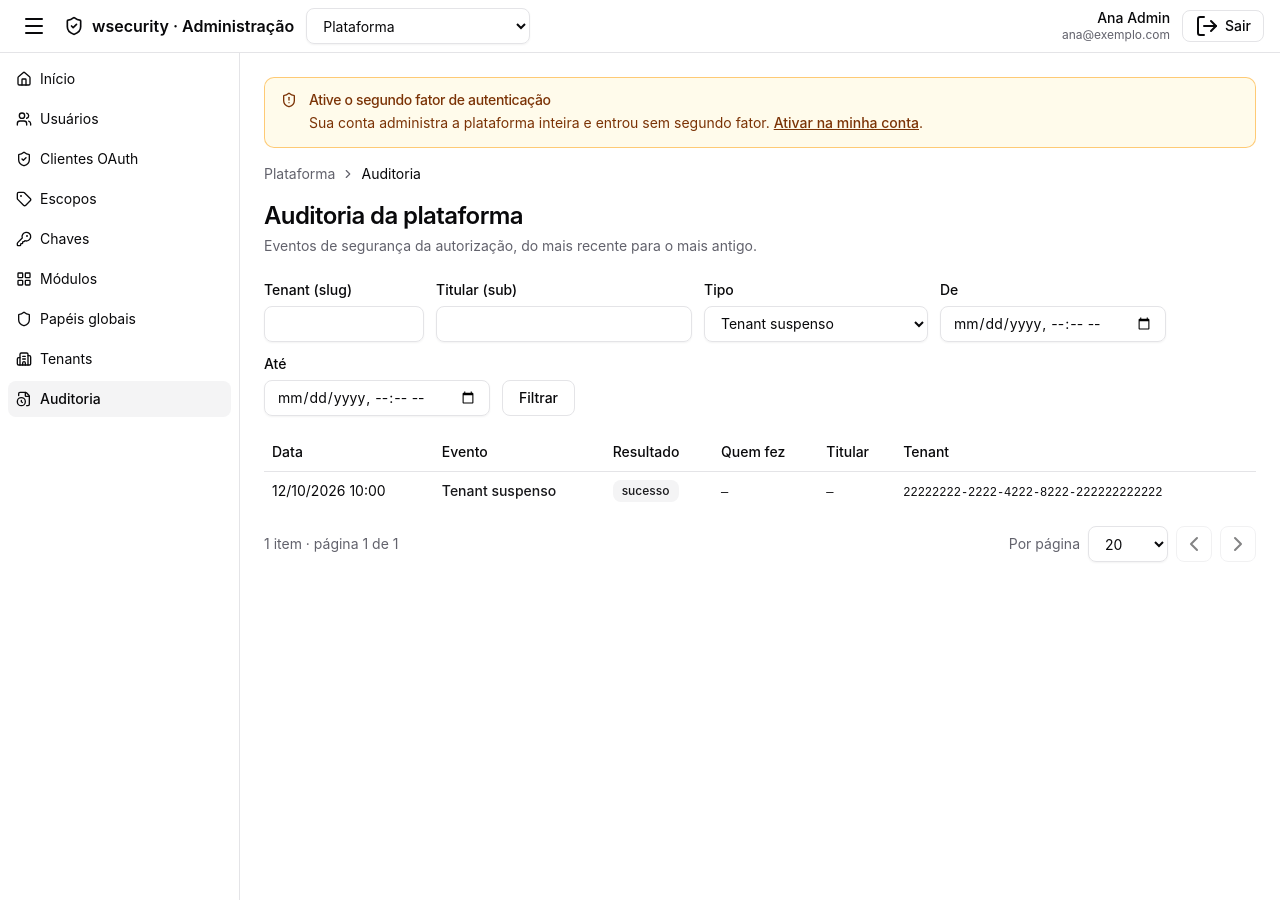
auditoria da plataforma › leva os filtros para a URL e converte o slug no tenantId
This screenshot has width=1280, height=900.
Expected: the button "Tenant suspenso" is shown, [442,481,556,501]
Type "globex" into the field labelled "Tenant (slug)". click: (344, 324)
box: [264,306,424,342]
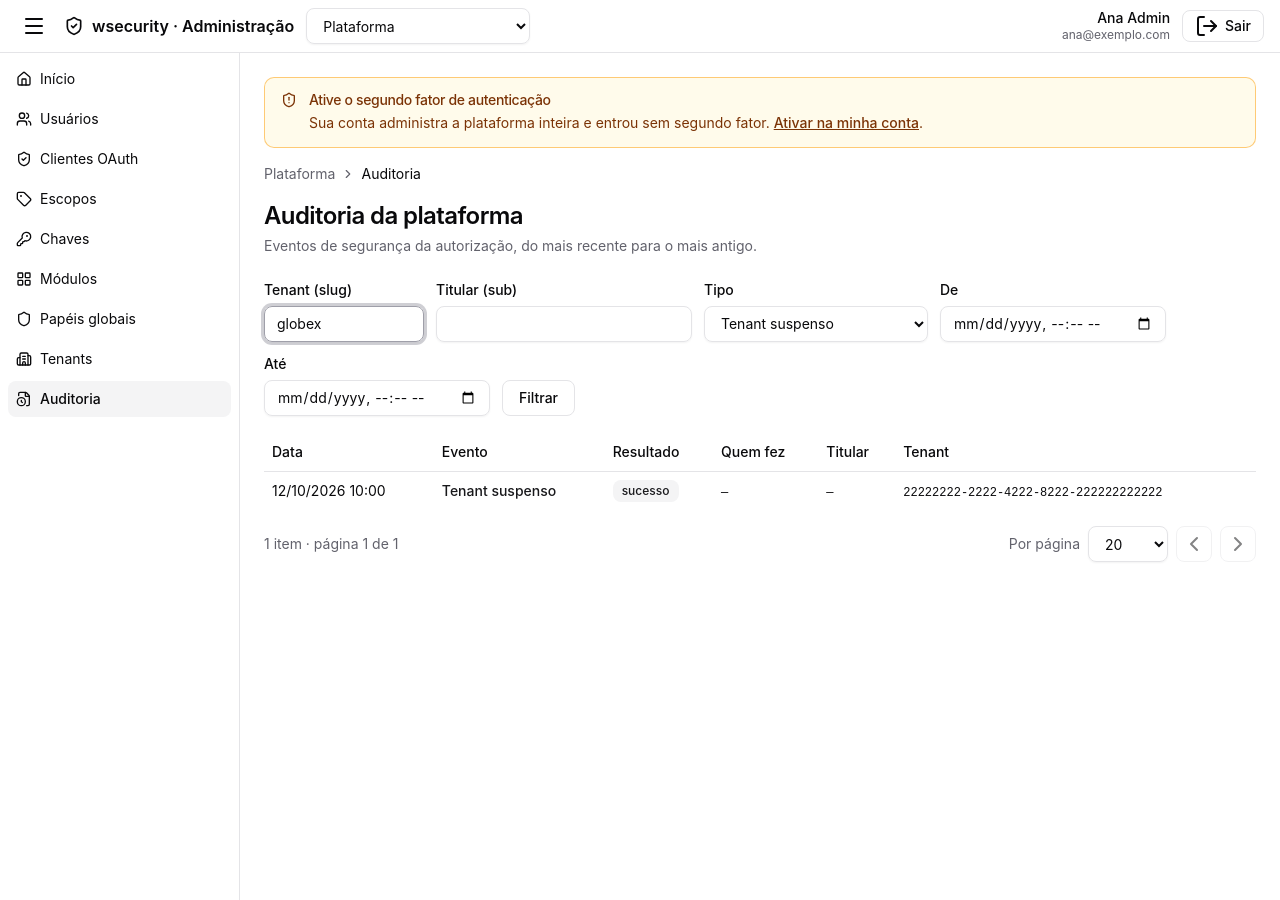
Click the button "Filtrar". click: click(538, 398)
box: [502,380,575,416]
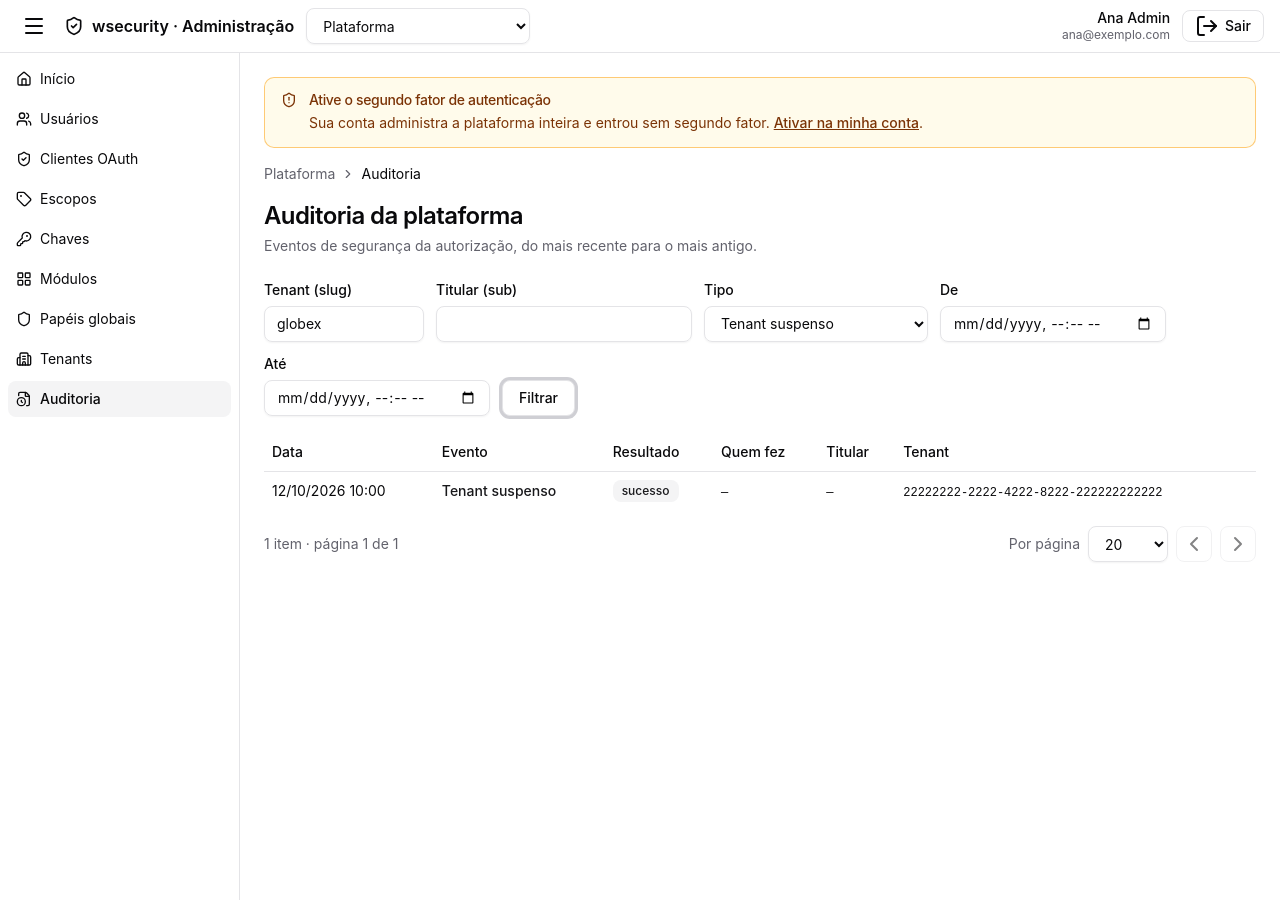
Click the button "Tenant suspenso". click: click(499, 491)
box: [442,481,556,501]
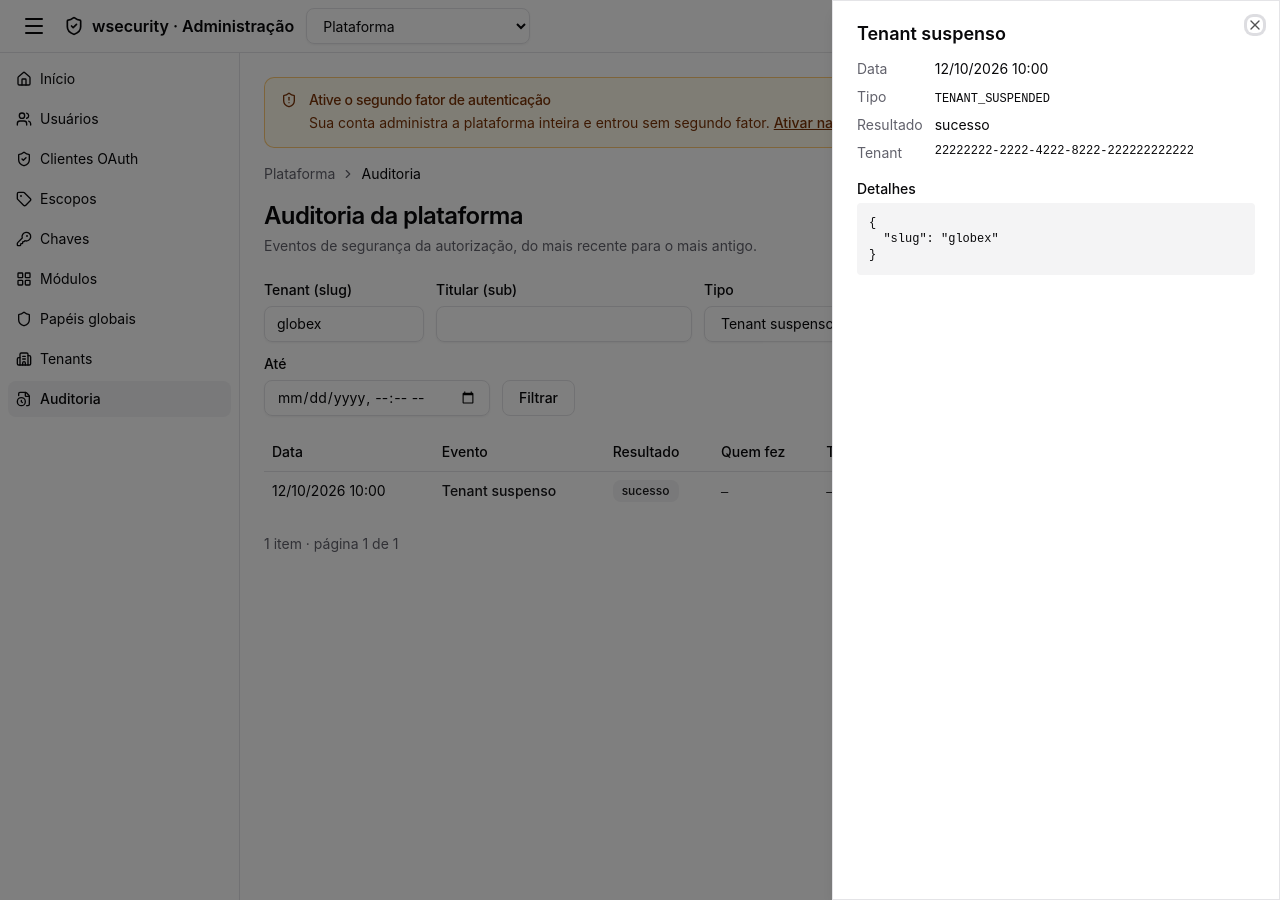
Expected: the text "{ \"slug\": \"globex\" }" is shown, [857,203,1255,275]
